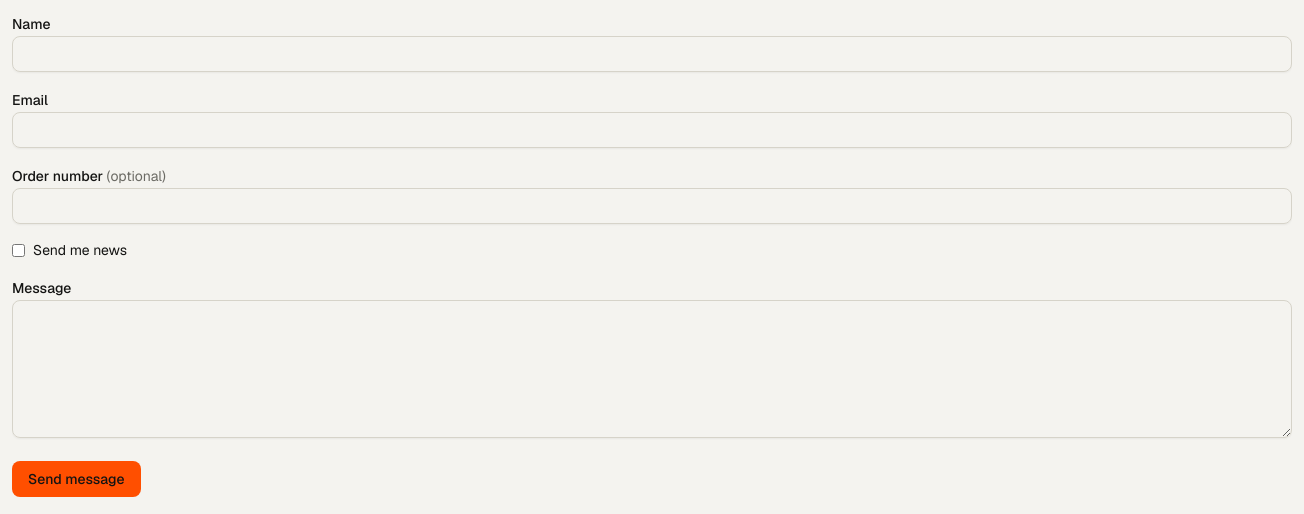
ContactForm › renders the console fields and submits them to the form endpoint
Type "Ada" into the field labelled "Name" at [652, 54], box left=12, top=36, right=1292, bottom=72
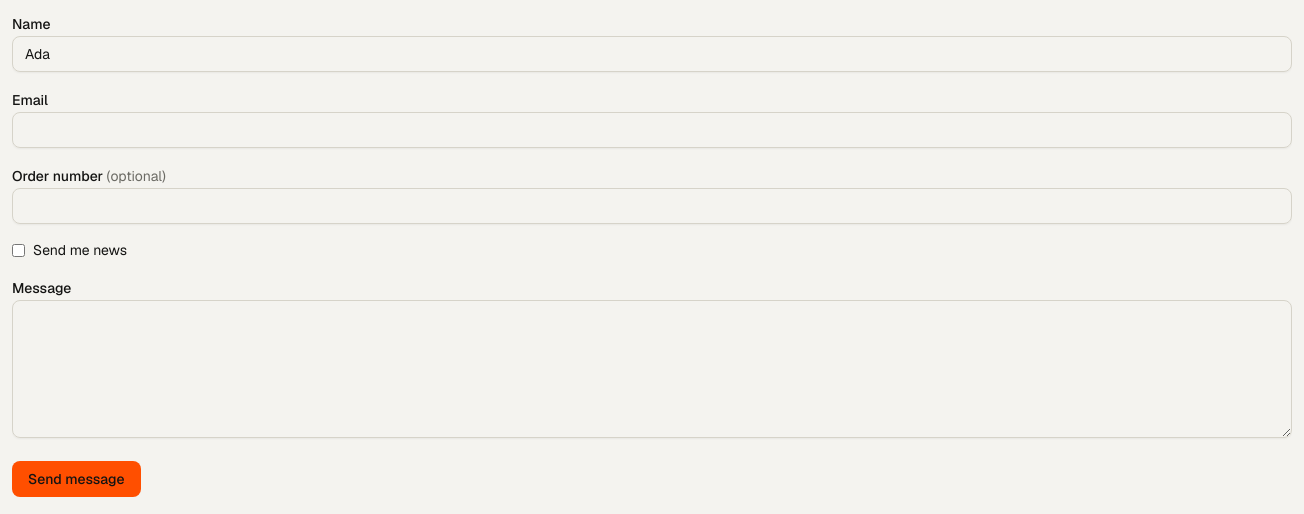
Type "ada@example.com" into the field labelled "Email" at [652, 130], box left=12, top=112, right=1292, bottom=148
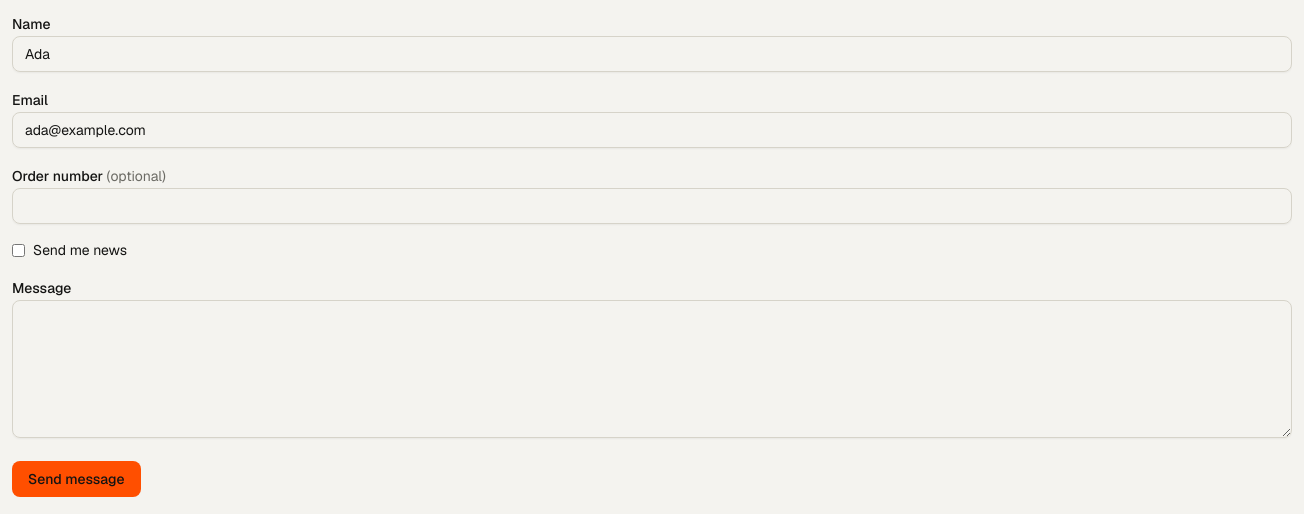
Type "Hello" into the text box labelled "Message" at [652, 369], box left=12, top=300, right=1292, bottom=438
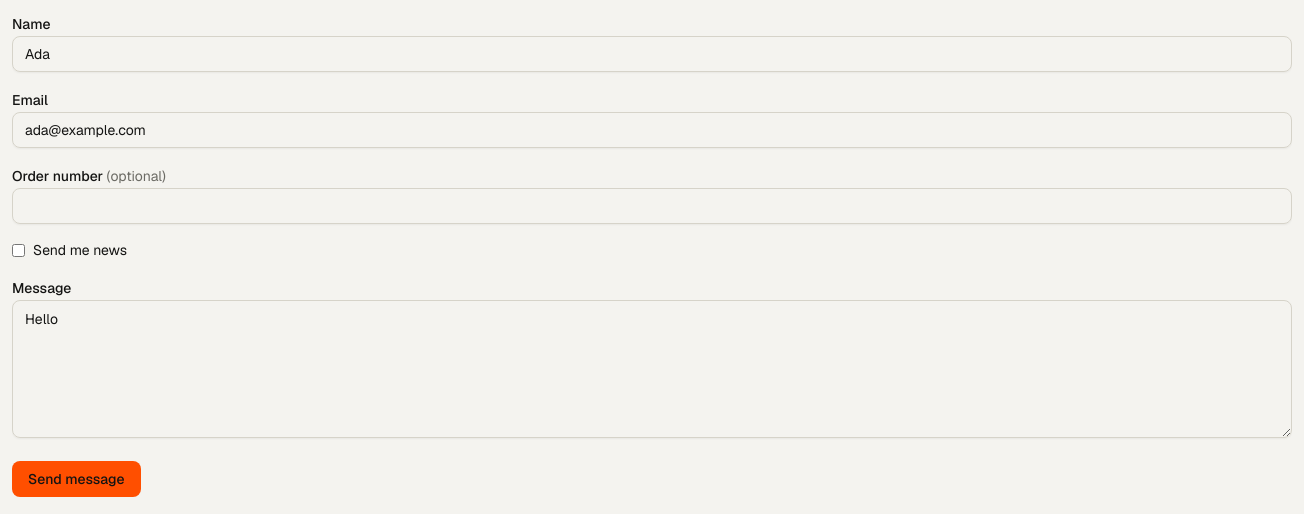
Click the button "Send message" at [76, 479], box left=12, top=461, right=140, bottom=497
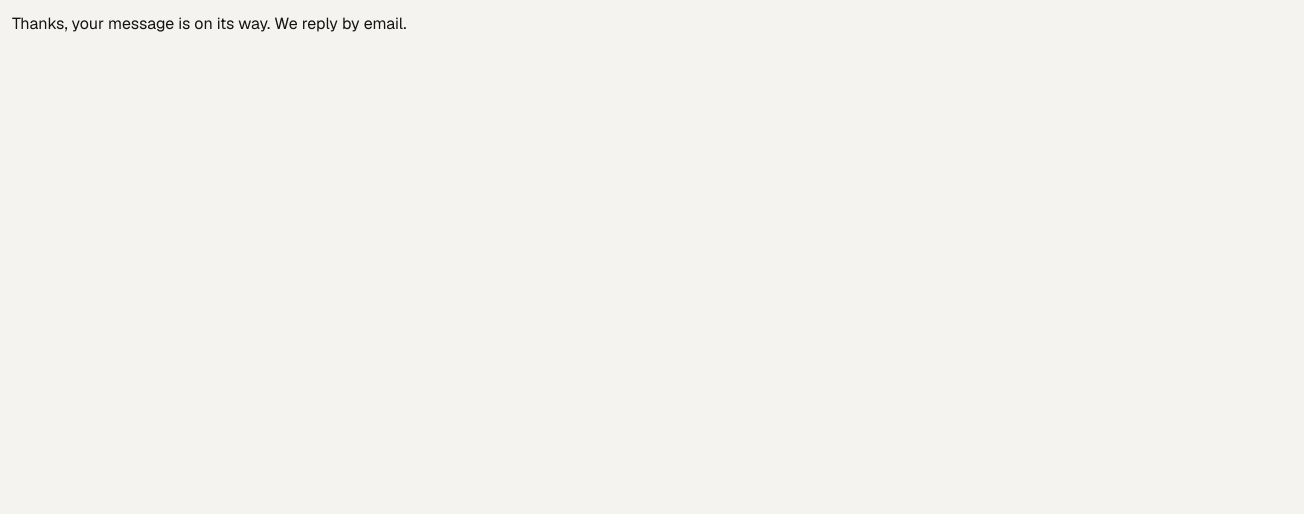
Check: the message shows "on its way", box left=12, top=13, right=407, bottom=34
